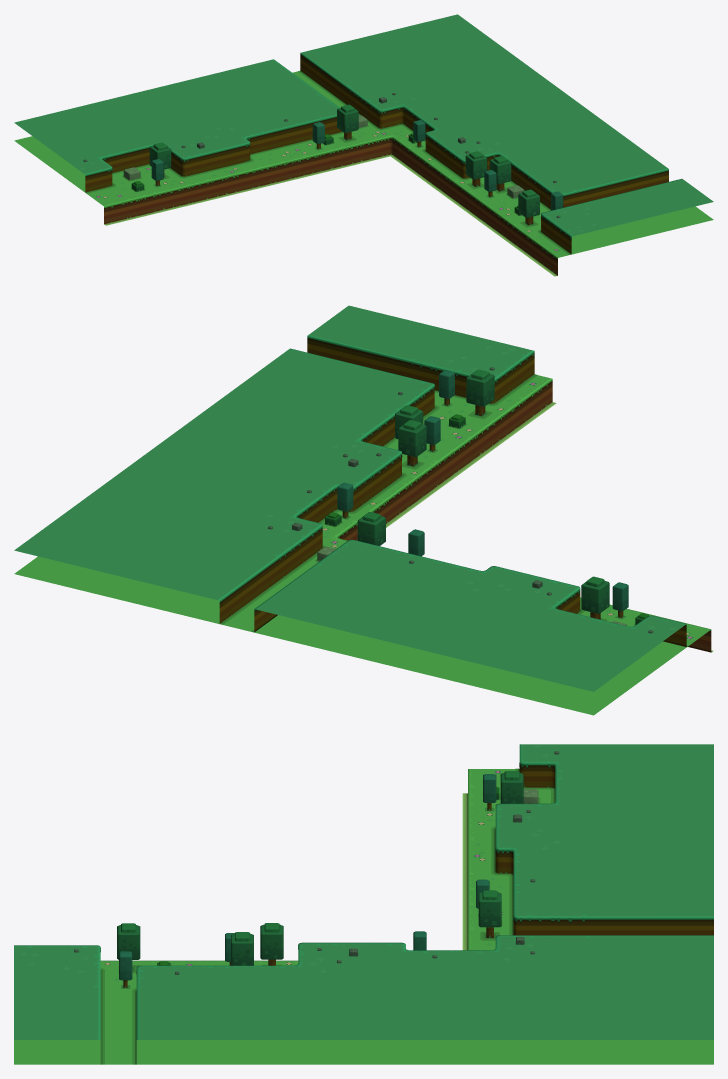
The model's file is C_grass1_out_LD.fbx.
3 views of the same model, one above another, from view 1: azimuth 30°, elevation 25°; view 2: azimuth 150°, elevation 25°; view 3: azimuth 270°, elevation 25° (orthographic). The views are drawn at different scales.
Parts seen in each view (by area): view 1: C_grass1_out_LD; view 2: C_grass1_out_LD; view 3: C_grass1_out_LD.
Boxes of the visible parts, bbox=[...] form: C_grass1_out_LD: bbox=[14, 14, 713, 276]; C_grass1_out_LD: bbox=[14, 305, 713, 715]; C_grass1_out_LD: bbox=[14, 744, 713, 1064].
Size of the model in its own units: 117 by 12.59 by 117.
